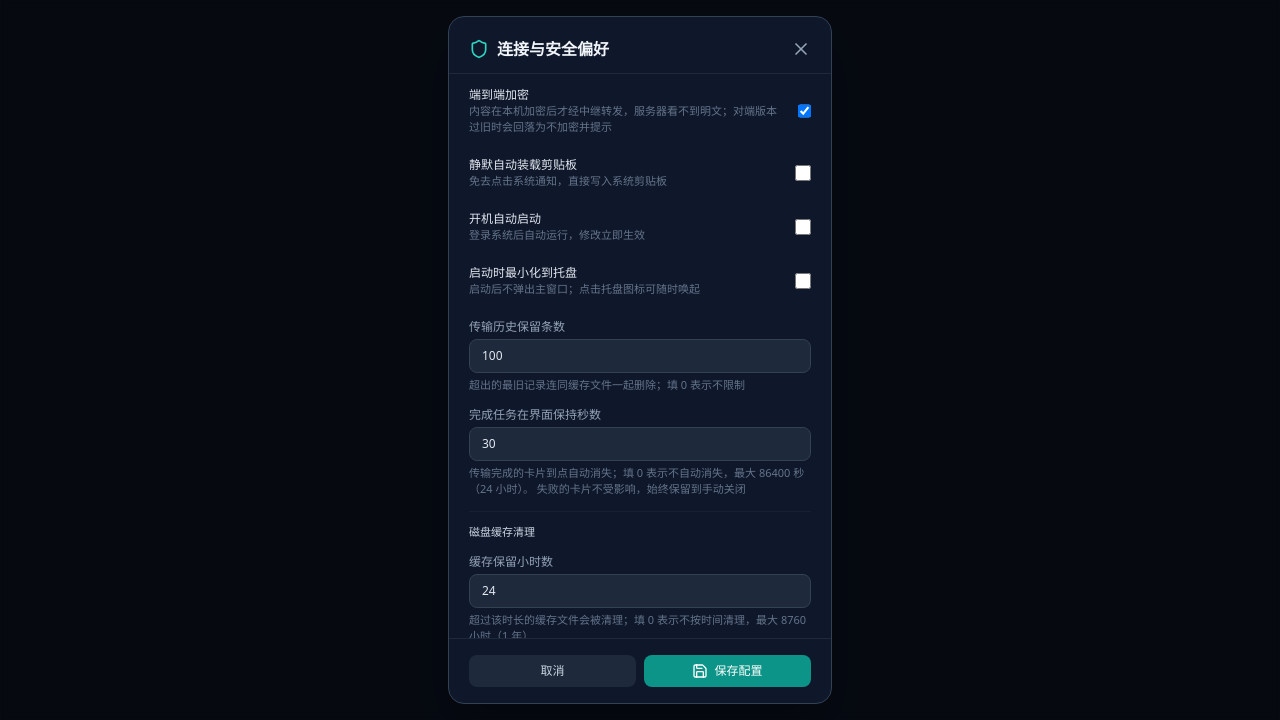
Test: 设置面板的数值校验 › 空输入被拦下且不提交——Number('') === 0 会把空值静默变成「不限制」
(page scrolled)
Clear the number field labelled "传输历史保留条数" at {"x": 640, "y": 356}, box [469,339,811,373]
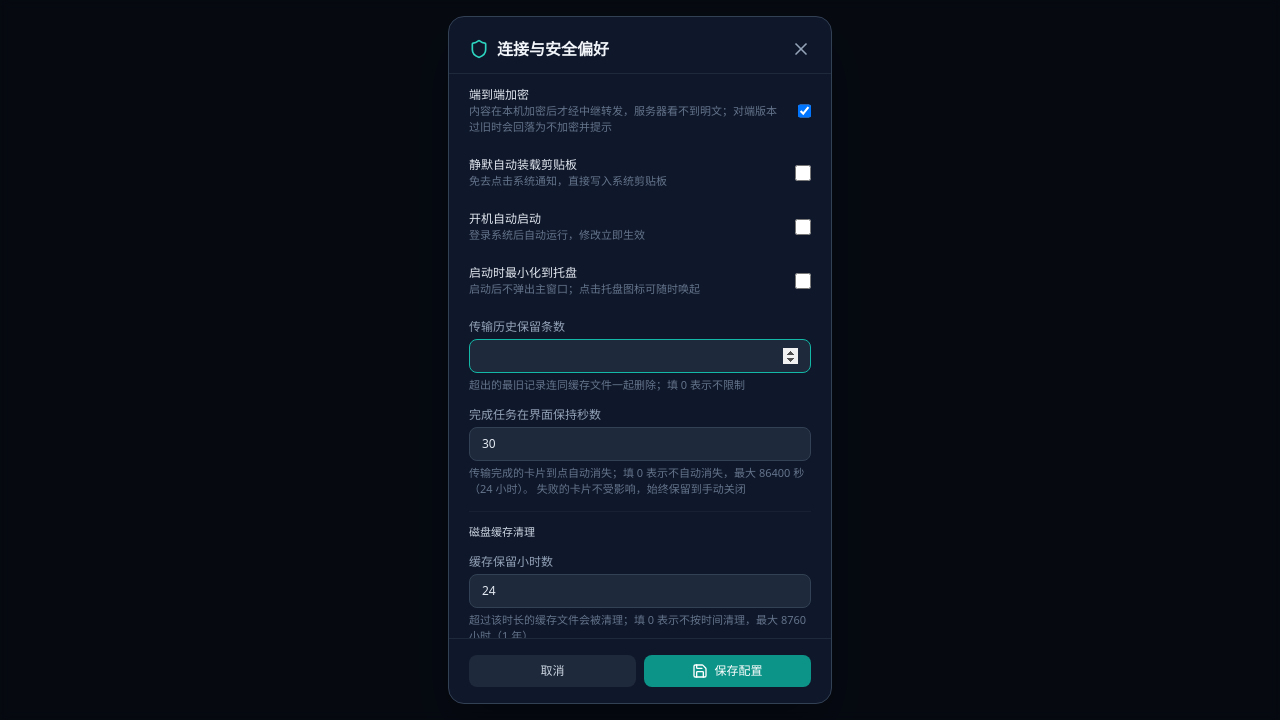
Click the button "保存配置" at {"x": 728, "y": 671}, box [644,655,811,687]
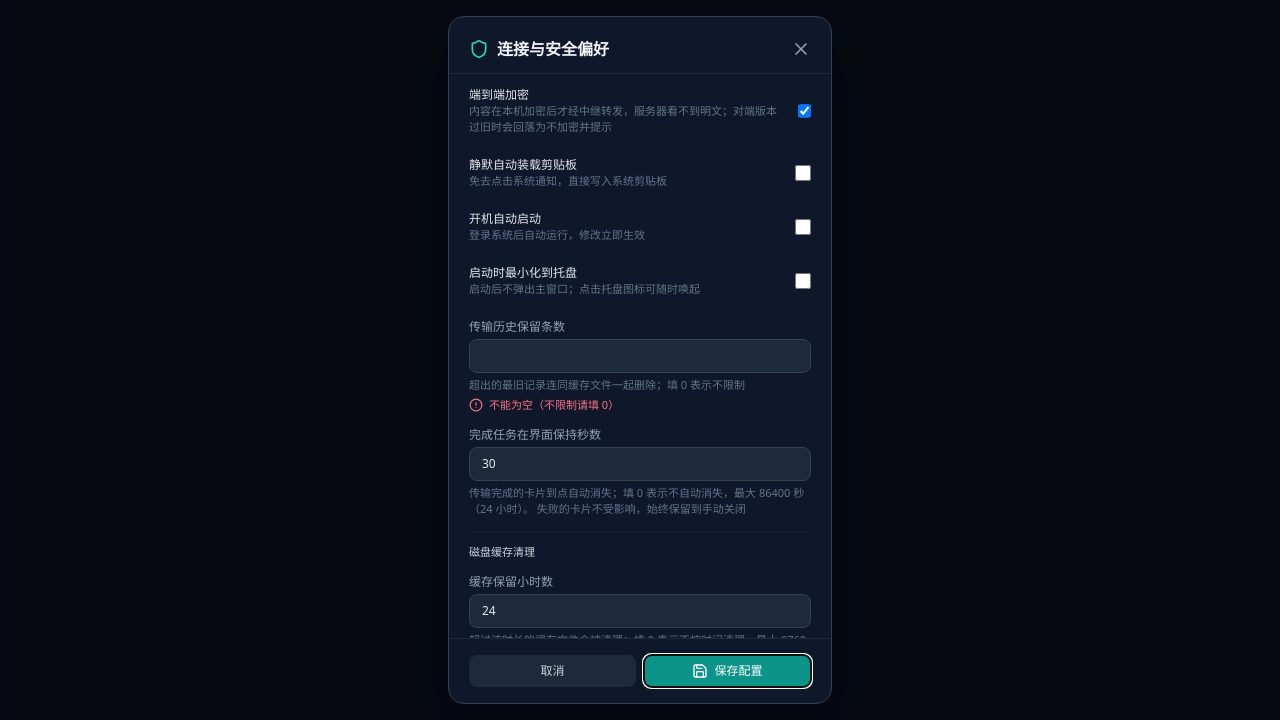
Expected: the text "不能为空（不限制请填 0）" is shown, [489,397,619,413]
